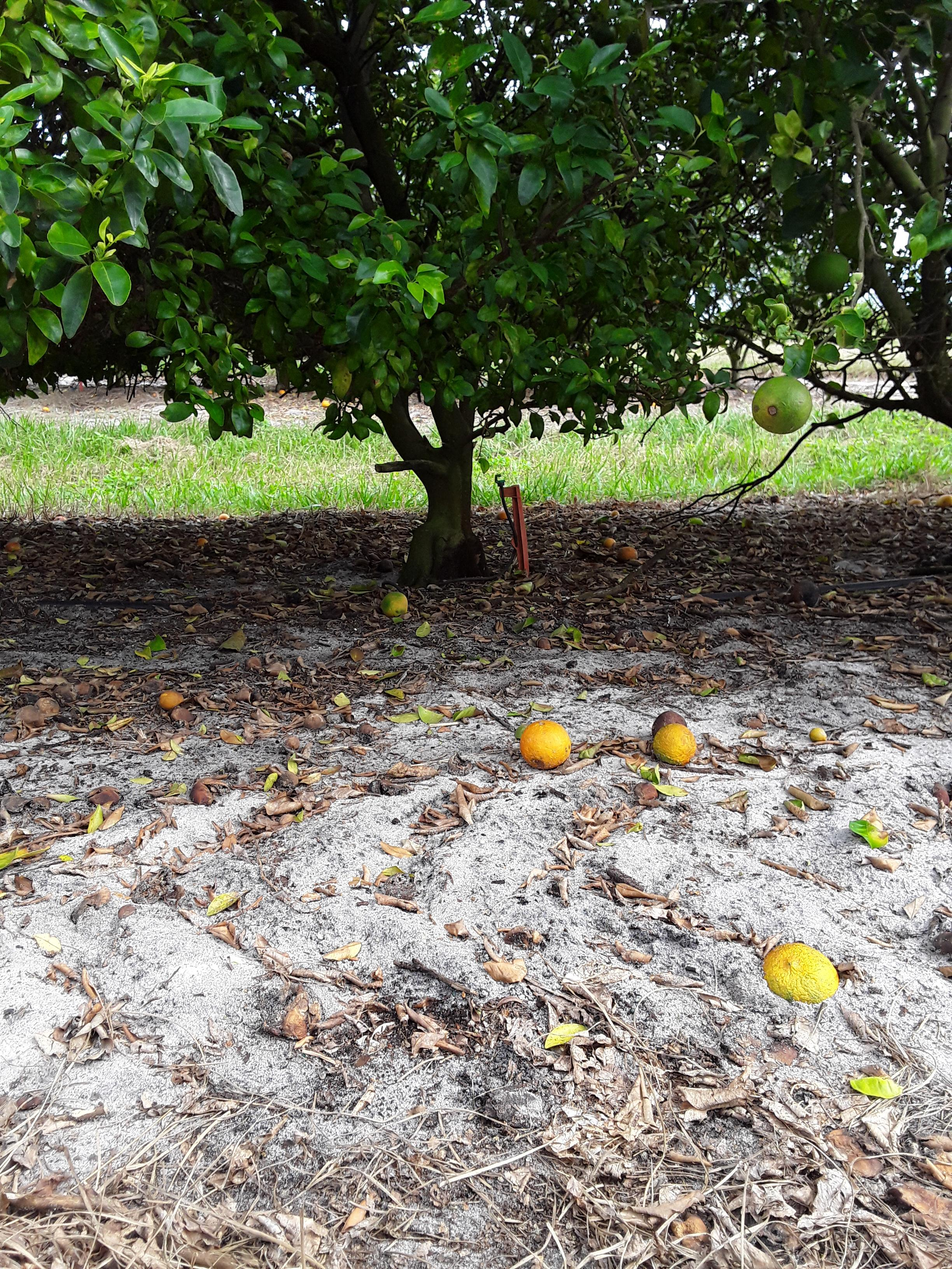fruit_on_ground: (747, 371, 816, 433), (804, 247, 856, 295)
fruit_on_tree: (763, 938, 842, 1008), (517, 717, 577, 769), (644, 720, 706, 768), (649, 706, 692, 741), (378, 588, 414, 621), (789, 580, 827, 608), (154, 688, 189, 712), (803, 722, 834, 746), (14, 706, 42, 732), (36, 695, 64, 718), (614, 545, 645, 565), (167, 708, 201, 724), (303, 712, 329, 731), (5, 539, 23, 552), (217, 511, 235, 523), (605, 535, 619, 549), (195, 536, 211, 548), (497, 509, 509, 522), (611, 509, 621, 519), (320, 400, 331, 407), (43, 406, 50, 413), (278, 389, 286, 395)
